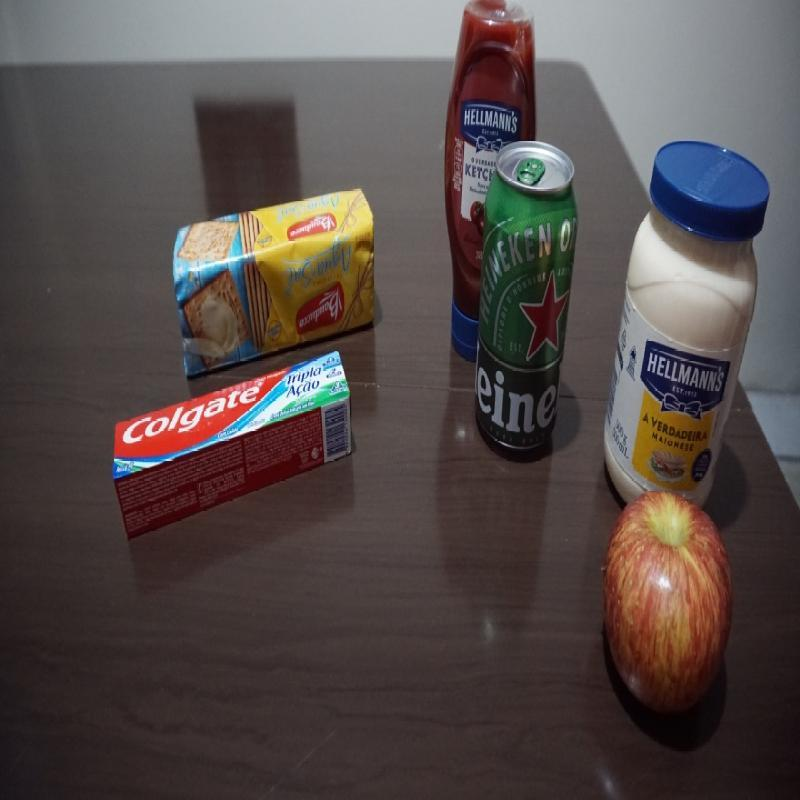Apple: (602, 491, 738, 712)
Beer can: (485, 148, 576, 454)
Cracker: (170, 186, 377, 342)
Ketchup: (444, 0, 480, 361)
Mayonnaise: (611, 134, 768, 488)
Toothpaste: (114, 351, 353, 531)
